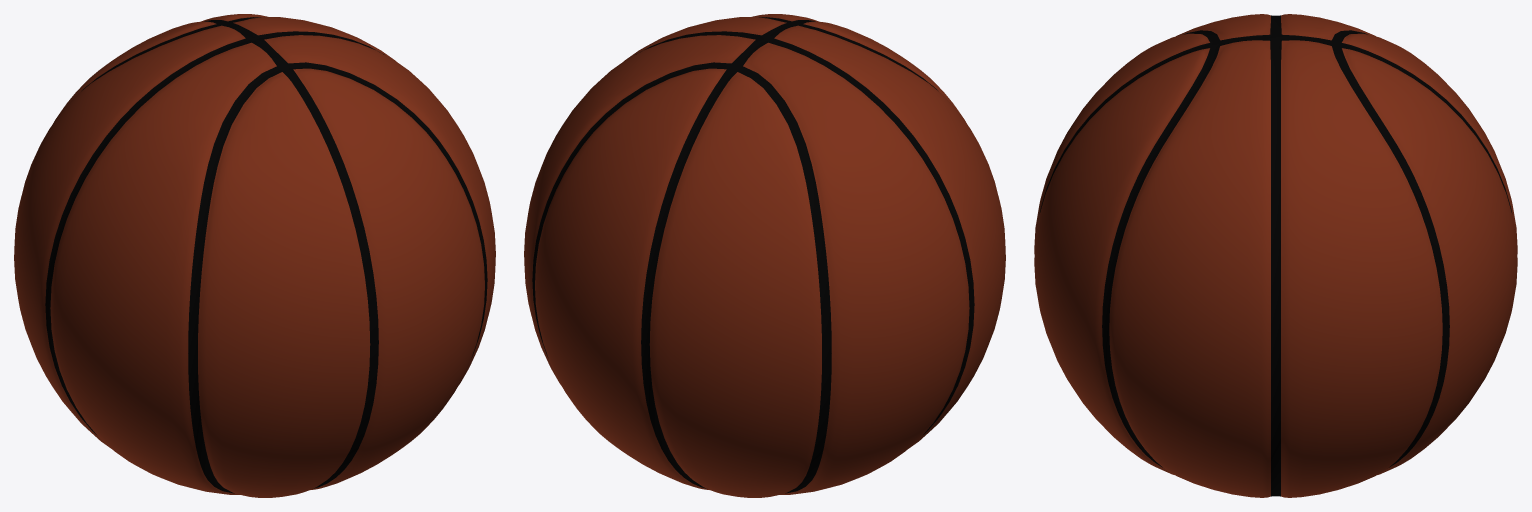
Rendered from Basketball.fbx.
3 views of the same model, side by side, from view 1: azimuth 30°, elevation 25°; view 2: azimuth 150°, elevation 25°; view 3: azimuth 270°, elevation 25° (orthographic).
Parts seen in each view (by area): view 1: Ball; view 2: Ball; view 3: Ball.
Part boxes in pixels (x1,y1,x2,y2): Ball: [14, 14, 495, 497]; Ball: [524, 14, 1005, 497]; Ball: [1034, 14, 1517, 497].
Size of the model in its own units: 162 by 162 by 162.
